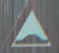Speed Breaker ahead: (3, 3, 58, 51)
